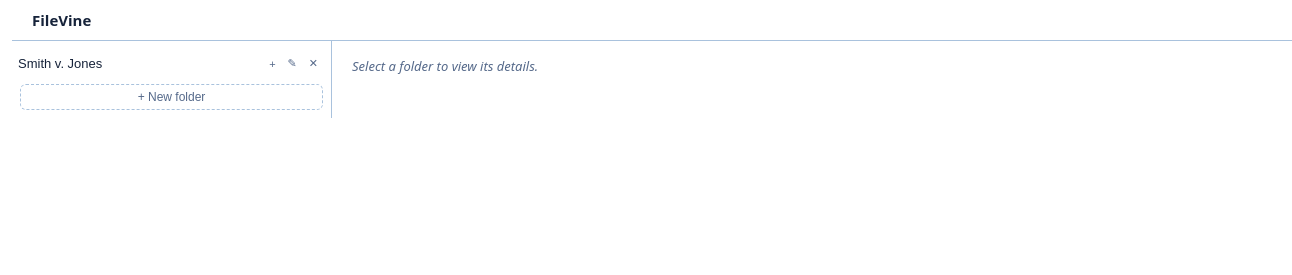
FileVineView › keeps a folder's existing client selected in the dropdown even if that persona is no longer marked as a client
Click the button "Smith v. Jones": coordinates (138, 64) 12,53 -> 264,74
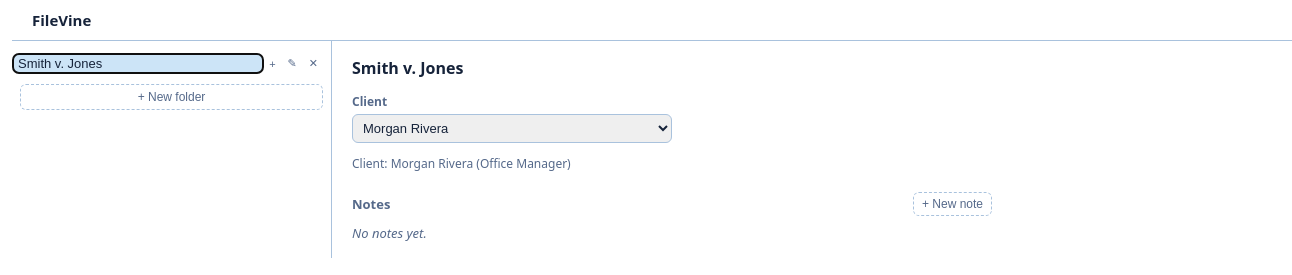
Expected: the dropdown labelled "Client" shows "Morgan Rivera", 352,114 -> 672,143
Expected: the text "Client: Morgan Rivera (Office Manager)" is shown, 352,155 -> 571,172
